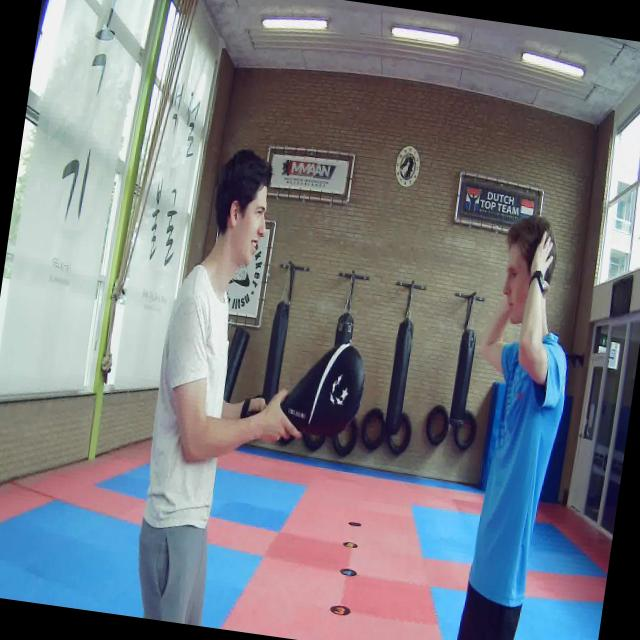paddle: (279, 343, 365, 437)
